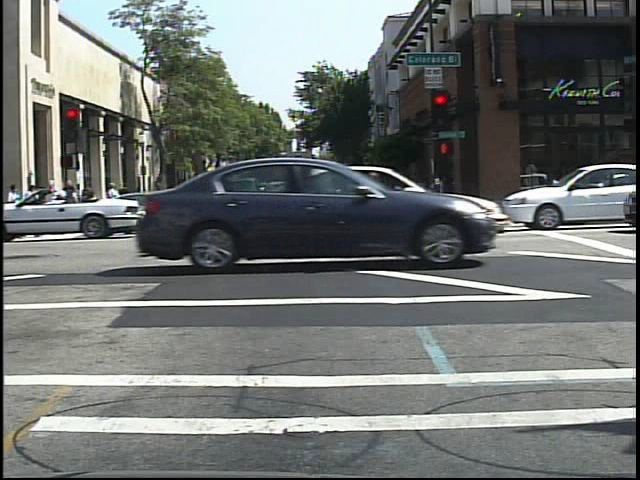person: (102, 179, 121, 225)
